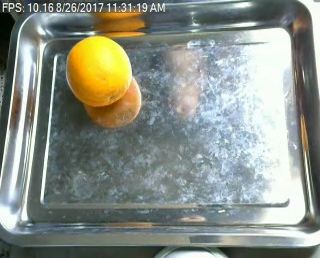Orange: (66, 36, 132, 106)
